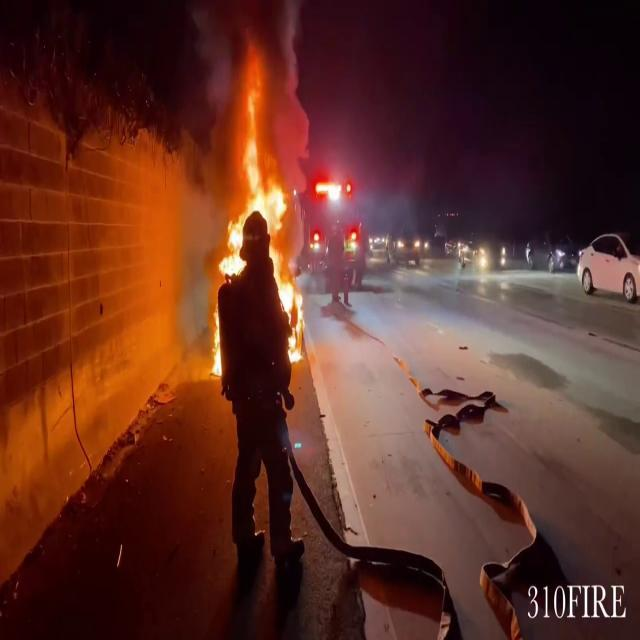Fire: (198, 98, 312, 374)
Smoke: (174, 0, 310, 148)
